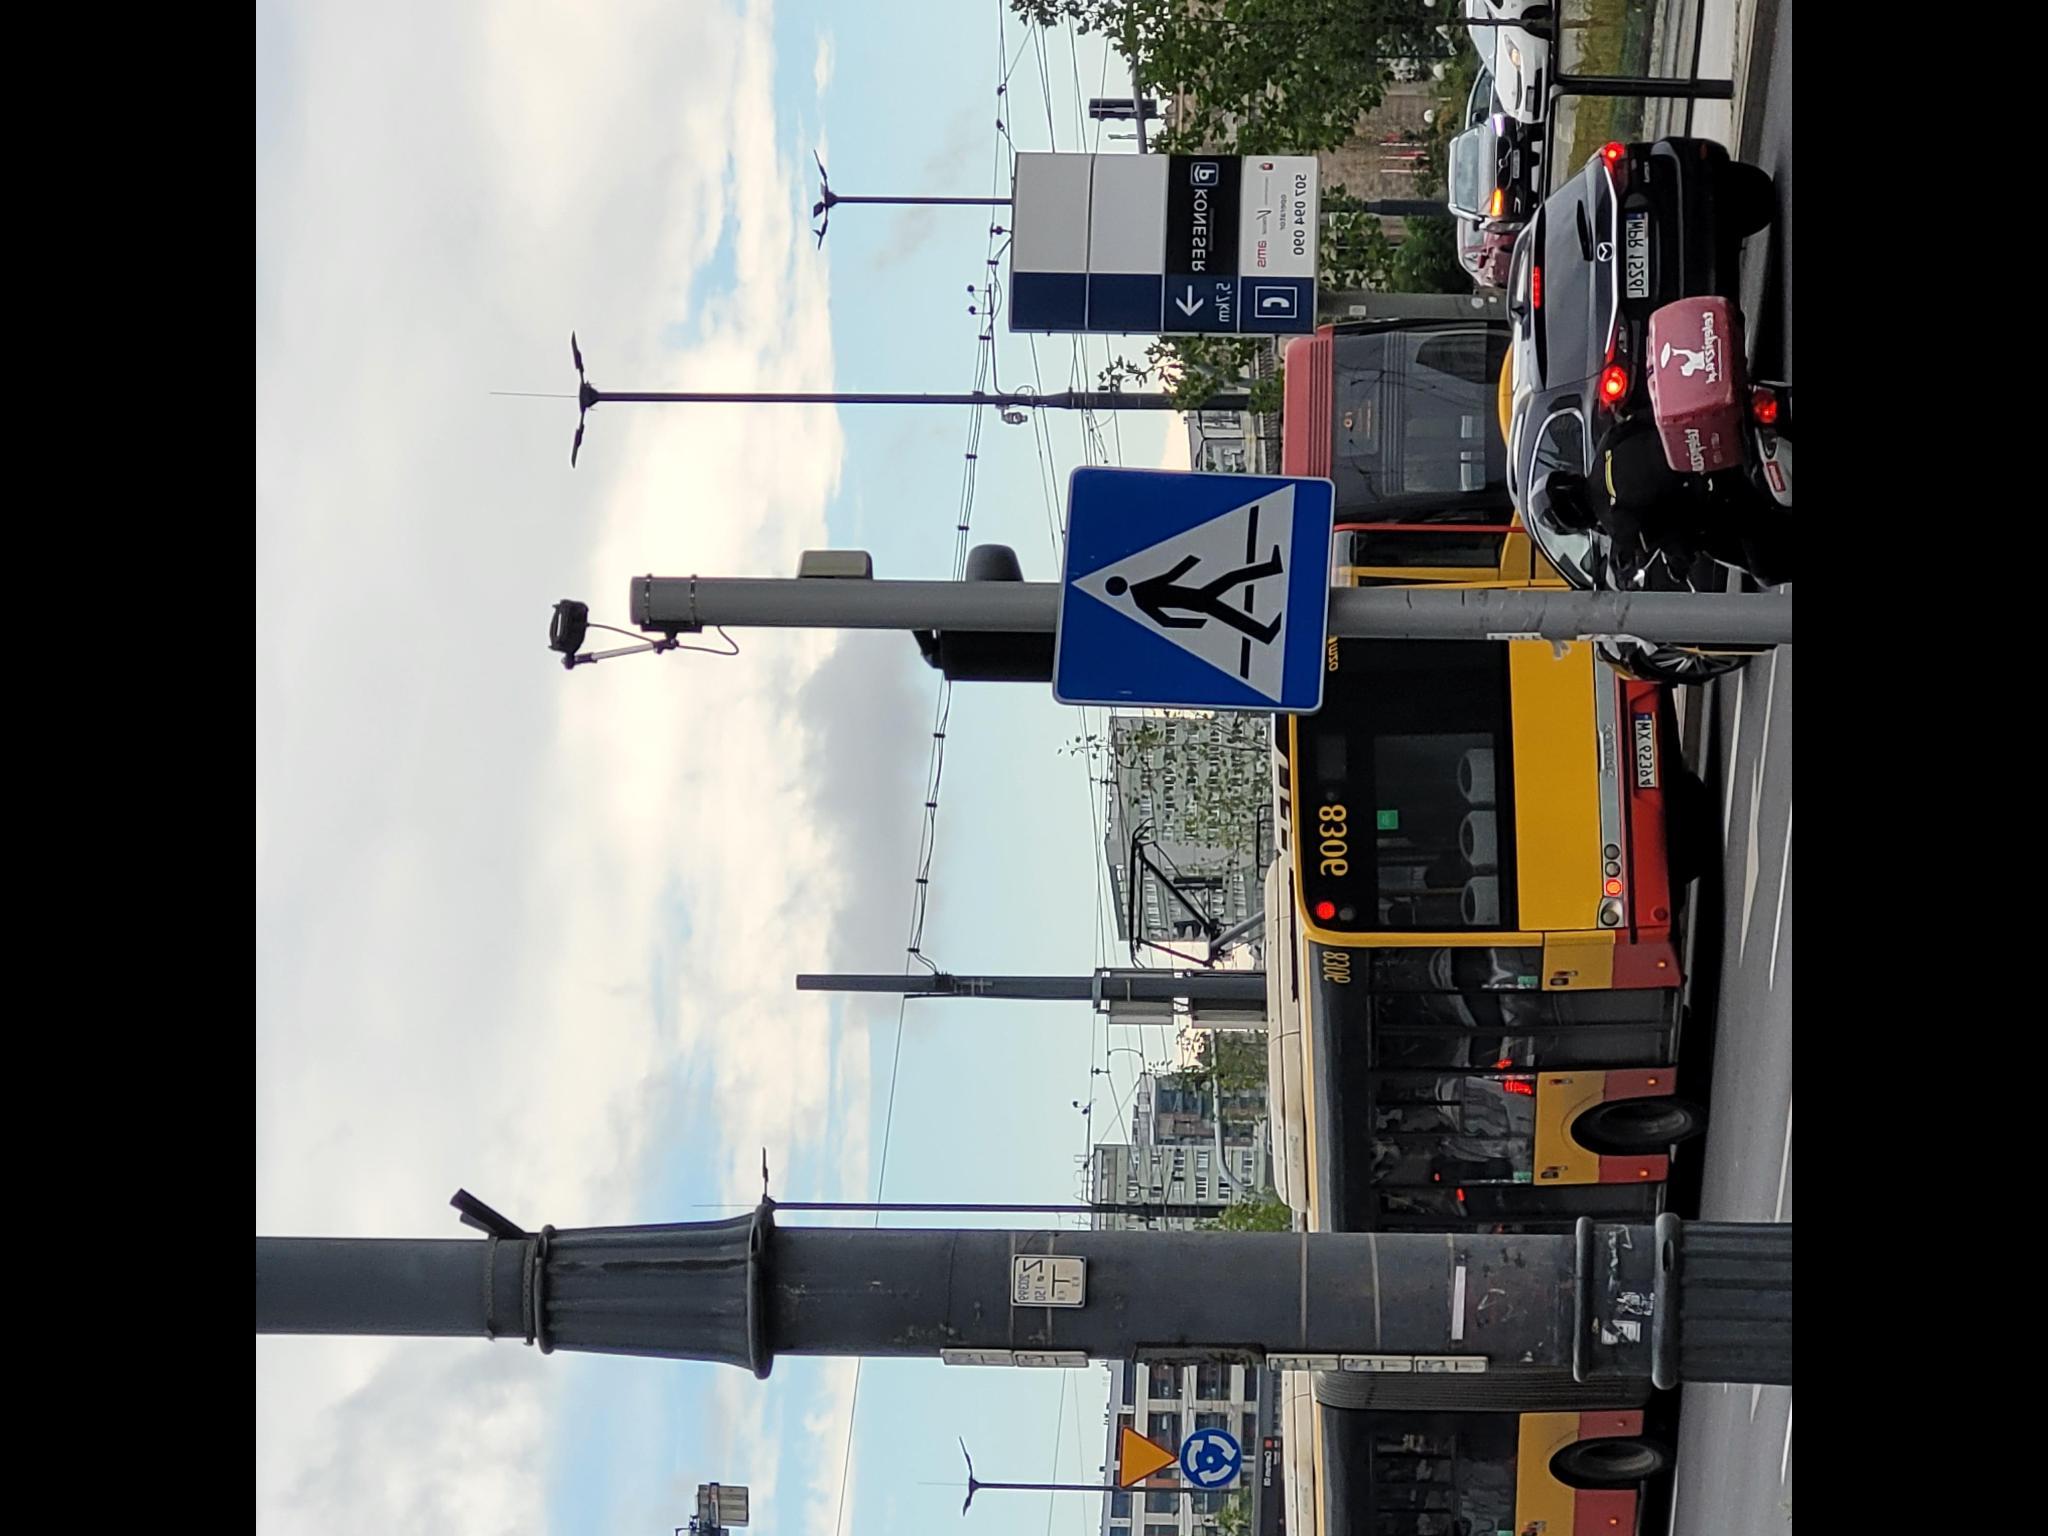information: (1055, 460, 1340, 713)
mandatory: (1180, 1426, 1243, 1489)
warning: (1118, 1425, 1179, 1488)
